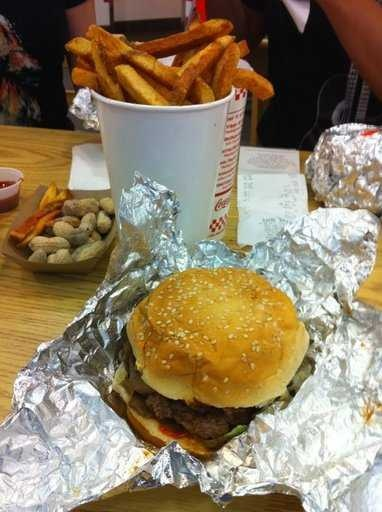hamburger: (106, 251, 324, 458)
